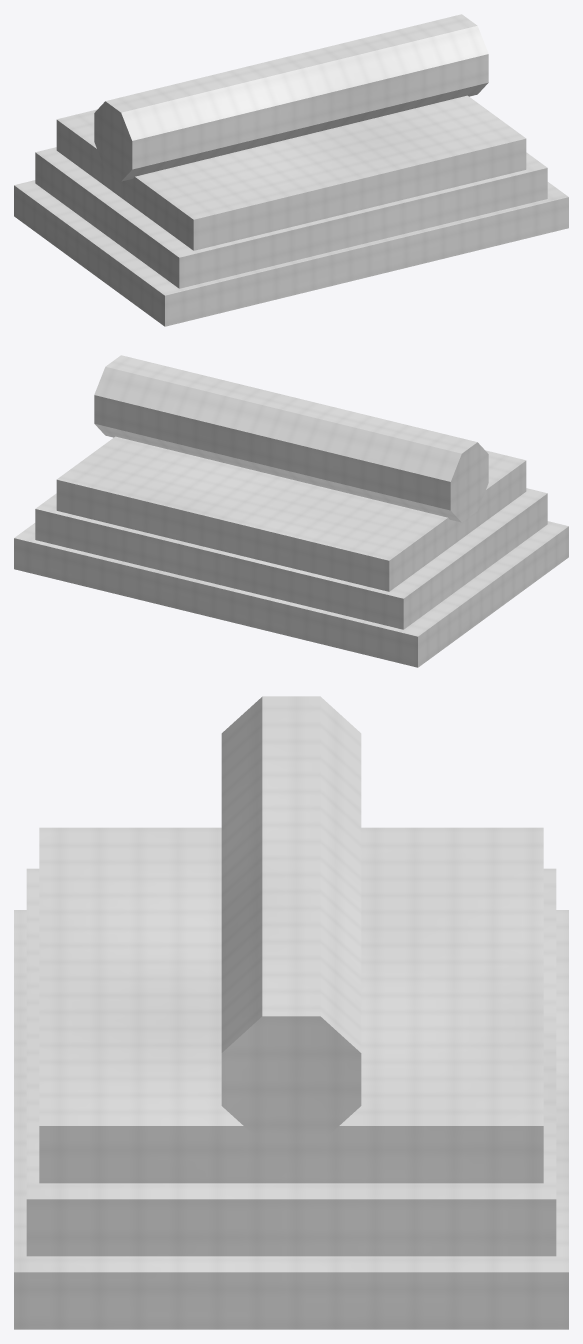
File: item_cloth.obj
3 renders of one model, top to bottom at view 1: azimuth 30°, elevation 25°; view 2: azimuth 150°, elevation 25°; view 3: azimuth 270°, elevation 25°, orthographic. The views are drawn at different scales.
Visible parts, largest first — view 1: item_cloth; view 2: item_cloth; view 3: item_cloth.
Part boxes in pixels (<box>): item_cloth: <box>14,14,568,326</box>; item_cloth: <box>14,355,568,667</box>; item_cloth: <box>14,696,568,1329</box>.
Bounding box in the file's own units: 0.68 × 0.2554 × 0.44.
